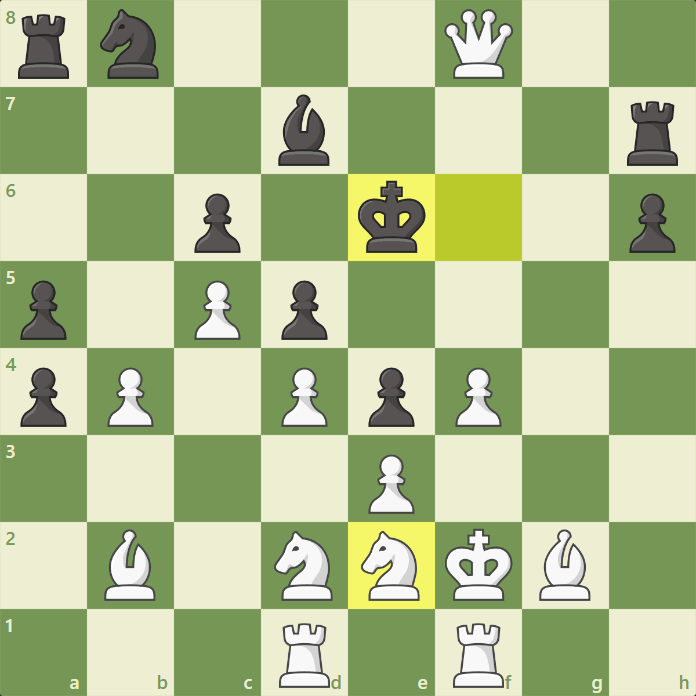B: (533, 528, 596, 604), (101, 528, 158, 603)
K: (444, 527, 514, 603)
N: (272, 529, 335, 603), (359, 530, 421, 603)
P: (193, 279, 241, 343), (106, 364, 154, 428), (280, 364, 328, 428), (367, 451, 415, 515), (455, 365, 503, 429)
Q: (443, 7, 516, 80)
R: (451, 622, 507, 691), (277, 620, 332, 690)
b: (275, 93, 333, 168)
k: (356, 179, 429, 256)
n: (98, 7, 161, 81)
p: (193, 192, 243, 256), (17, 278, 67, 342), (280, 278, 330, 342), (366, 365, 416, 429), (18, 366, 68, 430), (627, 191, 677, 255)
r: (15, 12, 71, 81), (626, 100, 680, 169)
